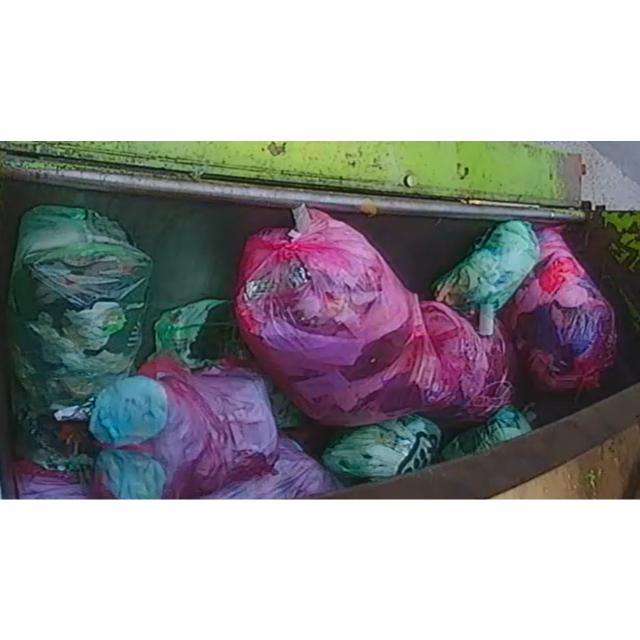general_trashbag: (9, 205, 152, 479), (432, 219, 538, 335), (321, 414, 441, 478), (154, 299, 259, 371), (442, 405, 531, 459), (263, 375, 304, 427)
other_trashbag: (235, 206, 512, 424), (89, 355, 279, 498), (502, 226, 616, 391), (201, 435, 341, 499)
